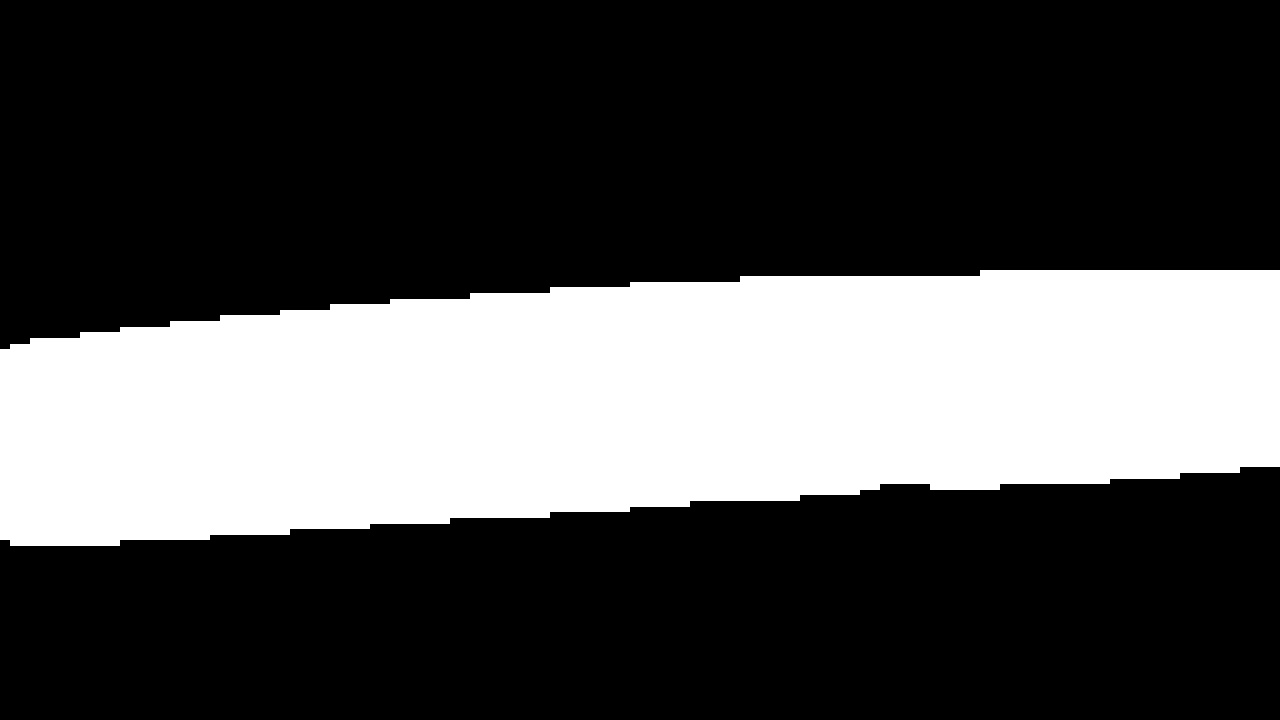Turbine: (12, 250, 1268, 567)
